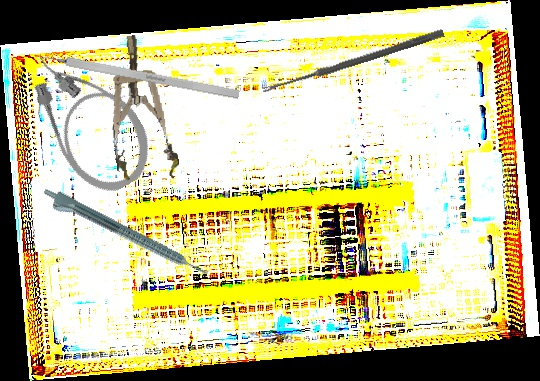Cannula: (15, 30, 165, 205)
Handpiece: (37, 184, 211, 287)
Hook Surgical: (27, 48, 240, 100)
Speculum: (101, 31, 181, 185)
Surgical Spoon: (261, 27, 445, 96)
